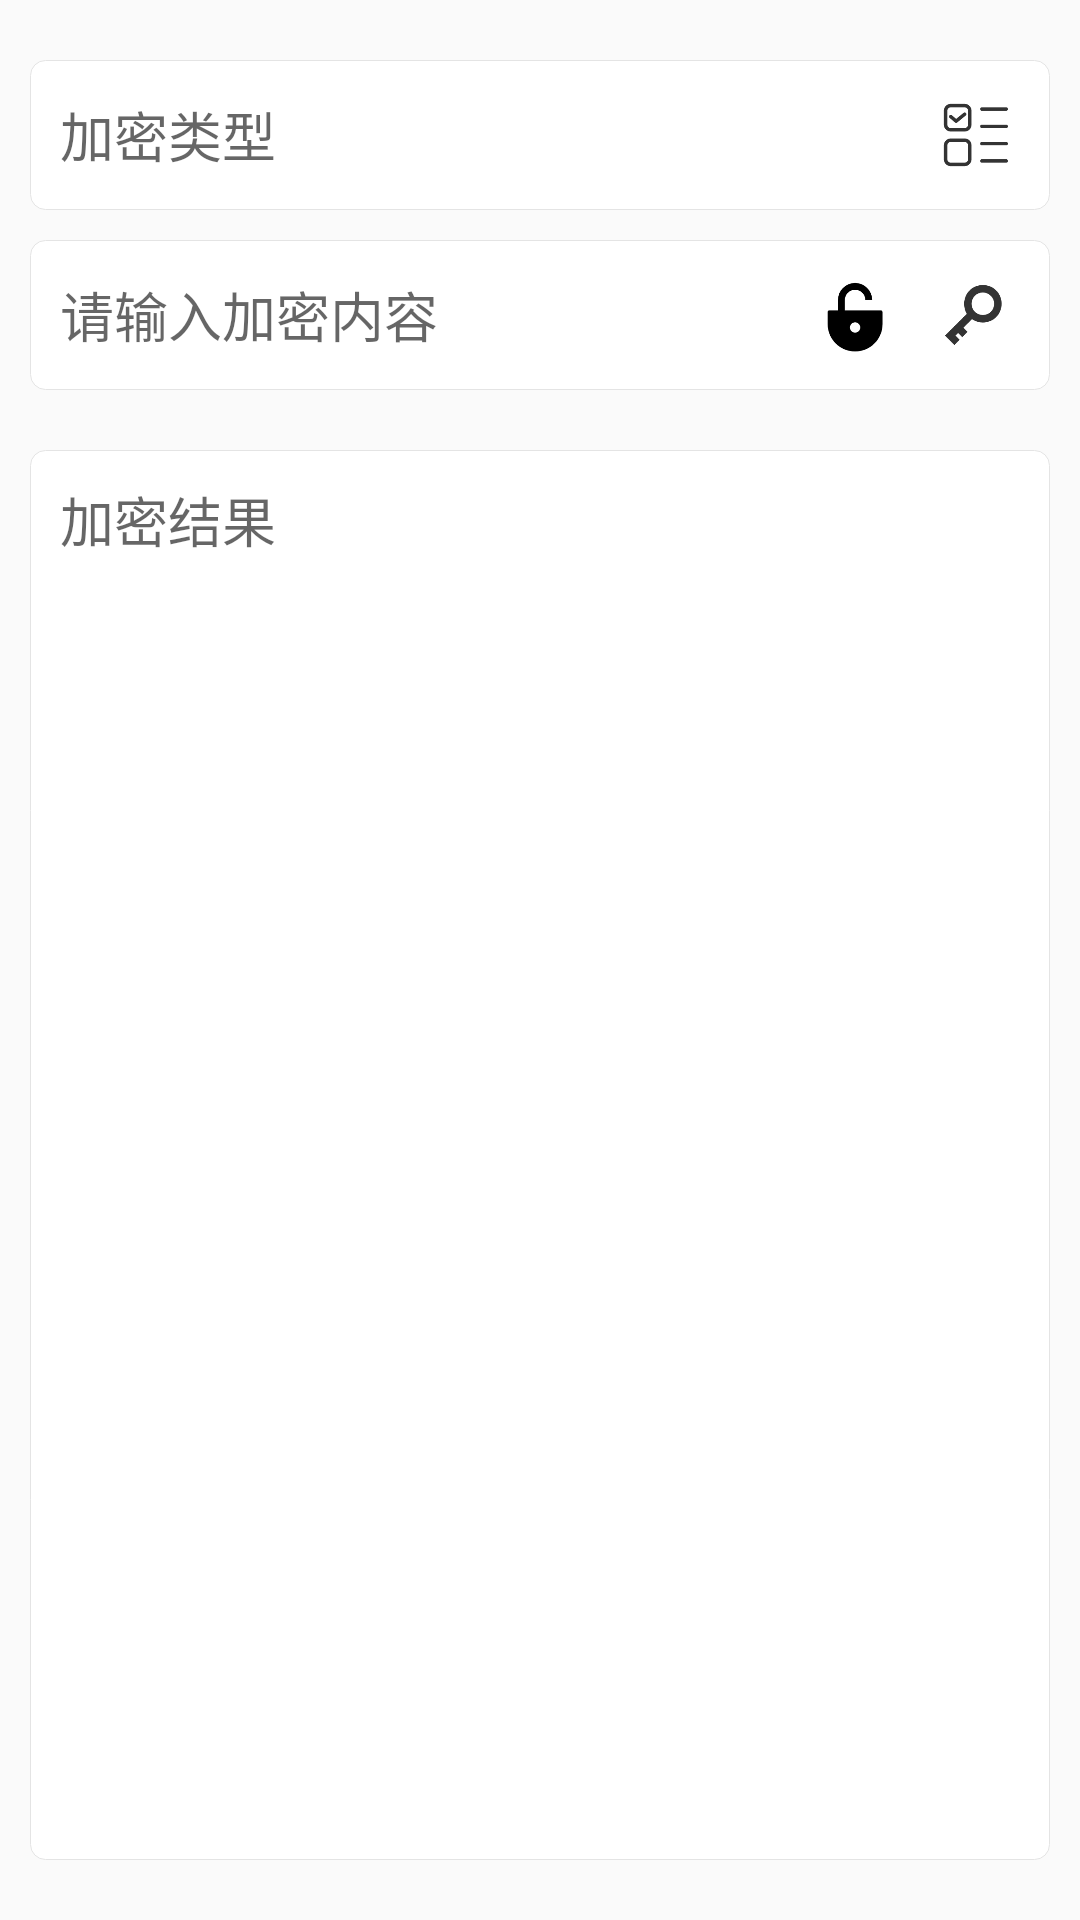

Icon bounding boxes for this 1080w x 1920h phone screenshot, format box=[x1, y1, x2, y2]:
choose: box=[943, 103, 1008, 167]
decrypt: box=[827, 283, 883, 352]
key: box=[945, 285, 1002, 345]
